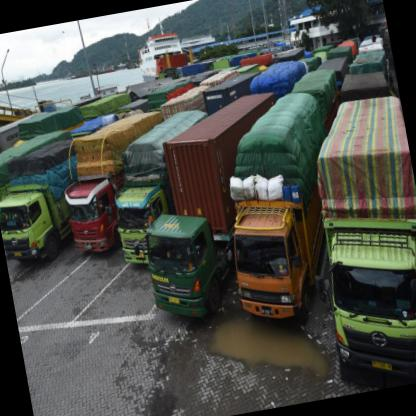truck: (315, 218, 416, 397), (223, 203, 318, 334), (139, 207, 229, 331), (110, 180, 176, 273), (1, 184, 61, 276), (63, 178, 124, 263)
